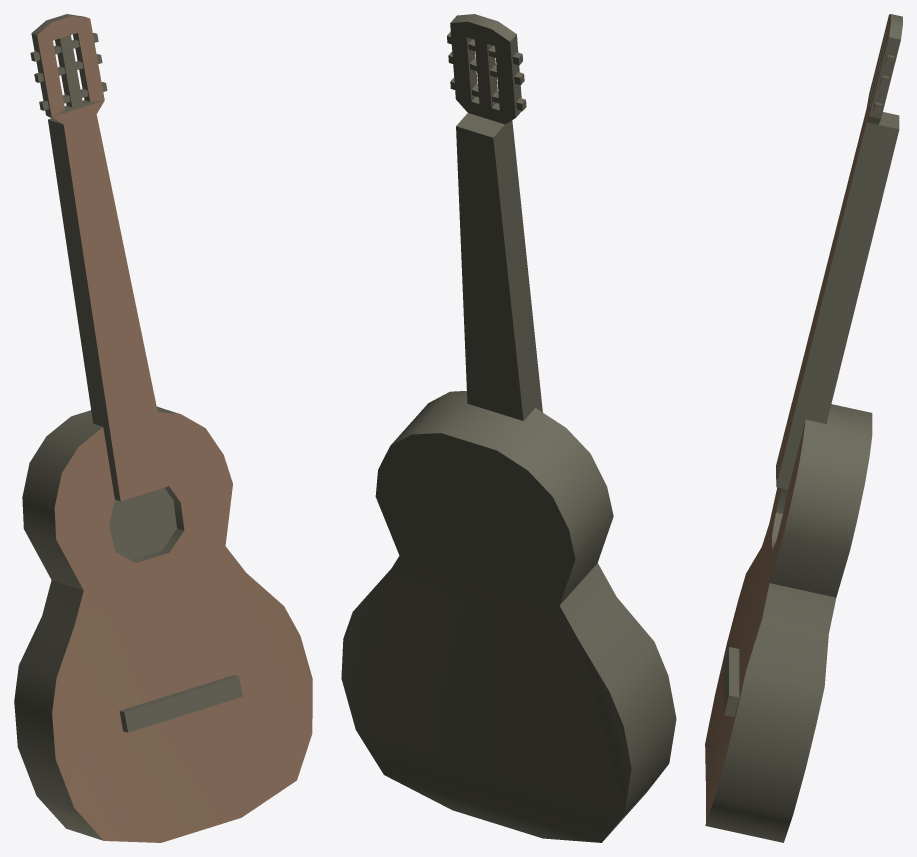
The picture shows the model from 3 angles, left to right: view 1: azimuth 30°, elevation 25°; view 2: azimuth 150°, elevation 25°; view 3: azimuth 270°, elevation 25°; orthographic projection. The views are drawn at different scales.
Parts seen in each view (by area): view 1: Cylinder024.001; view 2: Cylinder024.001; view 3: Cylinder024.001.
Boxes of the visible parts, x1,y1,x2,y2 form: Cylinder024.001: (14,14,312,842); Cylinder024.001: (341,14,676,842); Cylinder024.001: (705,14,902,842).
Bounding box in the file's own units: 51.56 × 148 × 33.83.
